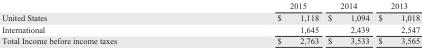table: (1, 0, 419, 45)
table column: (1, 0, 196, 45), (196, 0, 322, 45), (322, 0, 373, 45), (373, 0, 419, 45)
table column header: (1, 0, 419, 11)
table row: (1, 22, 419, 34), (1, 0, 419, 11), (1, 11, 419, 22), (1, 34, 419, 45)
